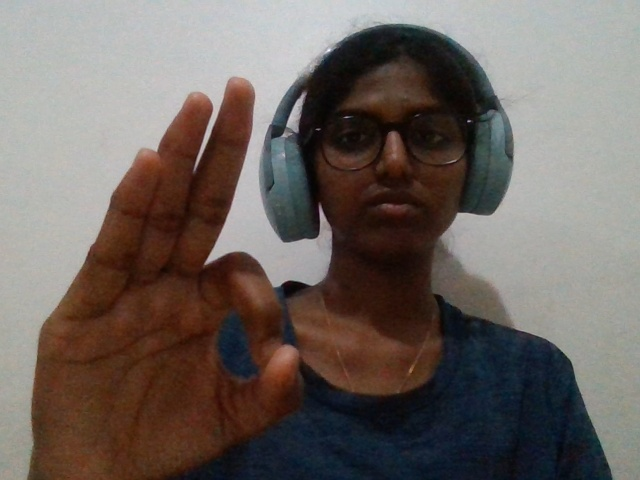F: (13, 49, 326, 480)
